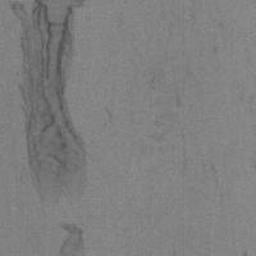Water spot: (12, 0, 97, 209), (56, 221, 86, 256)
